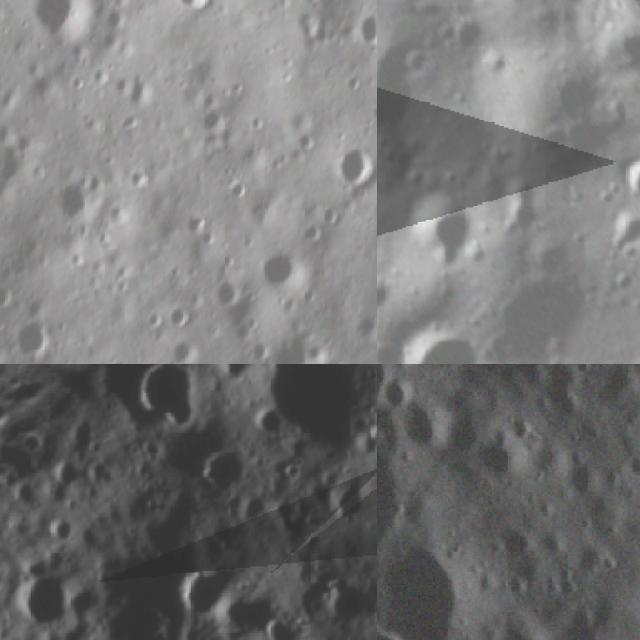crater: (225, 364, 377, 488), (464, 250, 597, 364), (108, 364, 232, 453), (0, 542, 94, 640), (180, 423, 272, 514), (392, 180, 485, 269), (157, 542, 246, 634), (384, 374, 466, 460), (384, 311, 498, 364), (469, 424, 535, 491), (549, 586, 629, 640), (472, 593, 556, 640), (29, 0, 100, 51), (488, 178, 541, 242), (187, 364, 287, 397), (52, 173, 108, 229), (256, 250, 310, 300), (560, 453, 612, 504), (252, 602, 314, 640), (377, 598, 432, 640), (490, 516, 537, 565), (13, 316, 62, 362), (334, 141, 377, 192), (377, 364, 420, 414), (451, 13, 495, 59), (604, 206, 640, 262), (500, 402, 543, 448), (394, 38, 435, 84), (194, 105, 234, 148), (615, 143, 640, 207), (210, 276, 244, 315), (349, 309, 377, 352), (615, 441, 640, 489), (605, 271, 638, 306), (167, 334, 204, 364), (377, 334, 413, 364), (166, 301, 194, 335), (356, 9, 377, 50), (173, 0, 216, 18), (377, 279, 395, 319)
